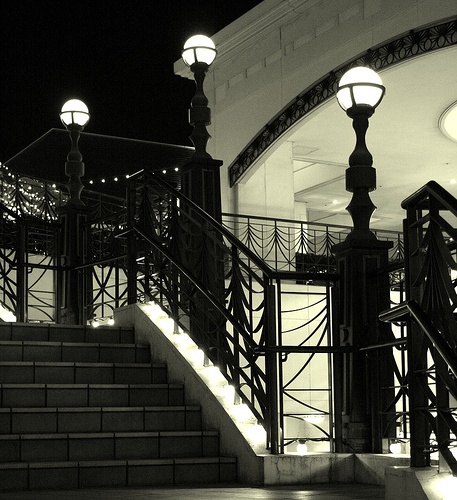stairs_up: (1, 321, 237, 494)
